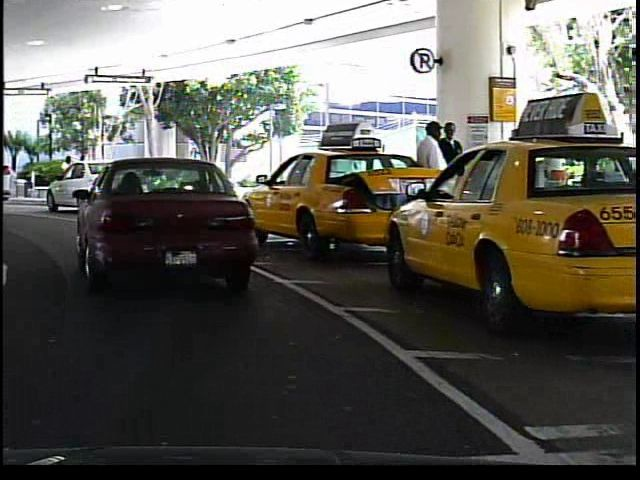person: (412, 119, 453, 242), (438, 118, 470, 235), (53, 152, 78, 197)
